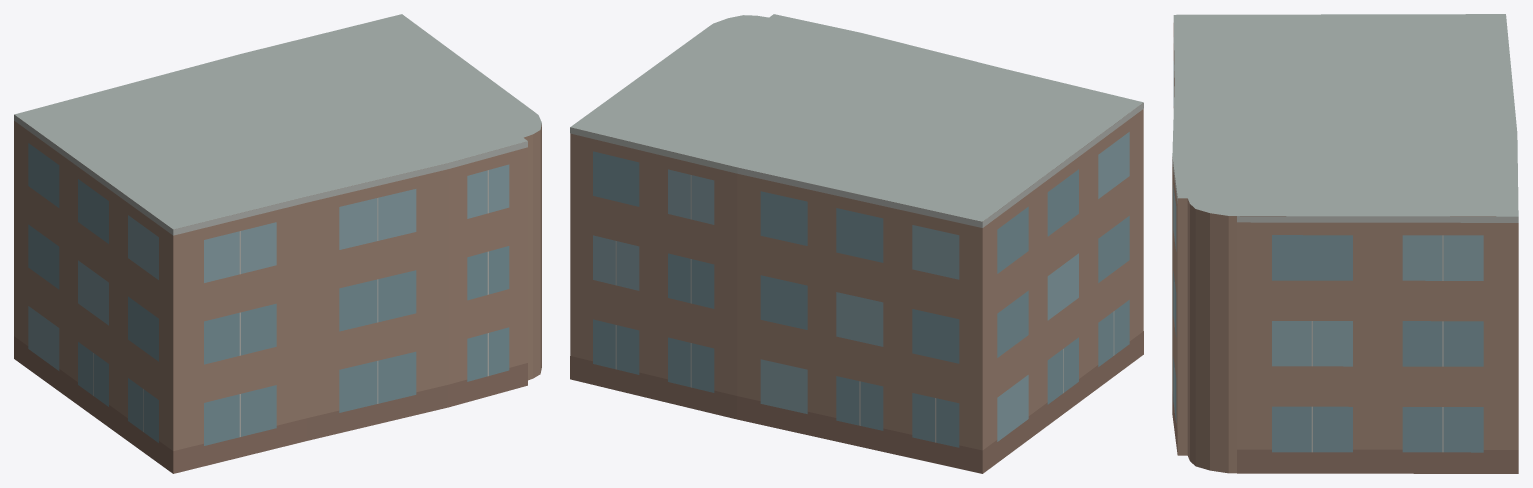
File: survey-upis-32856462.glb
3 renders of one model, left to right at view 1: azimuth 30°, elevation 25°; view 2: azimuth 150°, elevation 25°; view 3: azimuth 270°, elevation 25°, orthographic. The views are drawn at different scales.
Parts seen in each view (by area): view 1: survey-upis-32856462.tmp; view 2: survey-upis-32856462.tmp; view 3: survey-upis-32856462.tmp.
Part boxes in pixels (x1,y1,x2,y2): survey-upis-32856462.tmp: (14, 14, 541, 473); survey-upis-32856462.tmp: (570, 14, 1143, 473); survey-upis-32856462.tmp: (1172, 14, 1518, 473).
Size of the model in its own units: 16.51 by 9.78 by 11.93.
